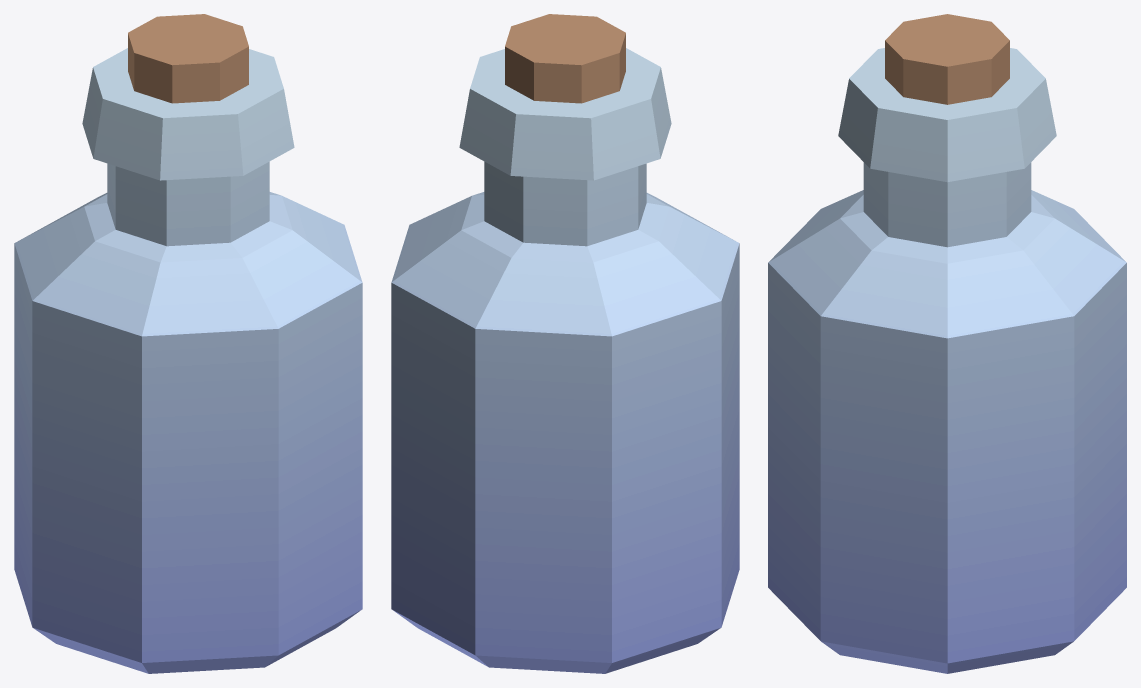
File: fairy.fbx
3 renders of one model, left to right at view 1: azimuth 30°, elevation 25°; view 2: azimuth 150°, elevation 25°; view 3: azimuth 270°, elevation 25°, orthographic.
Visible parts, largest first — view 1: bottle; view 2: bottle; view 3: bottle.
Part boxes in pixels (box(x1,y1,x2,y2)): bottle: box(14, 14, 362, 673); bottle: box(391, 14, 739, 673); bottle: box(768, 14, 1126, 673).
Size of the model in its own units: 12.28 by 21.51 by 12.28.
